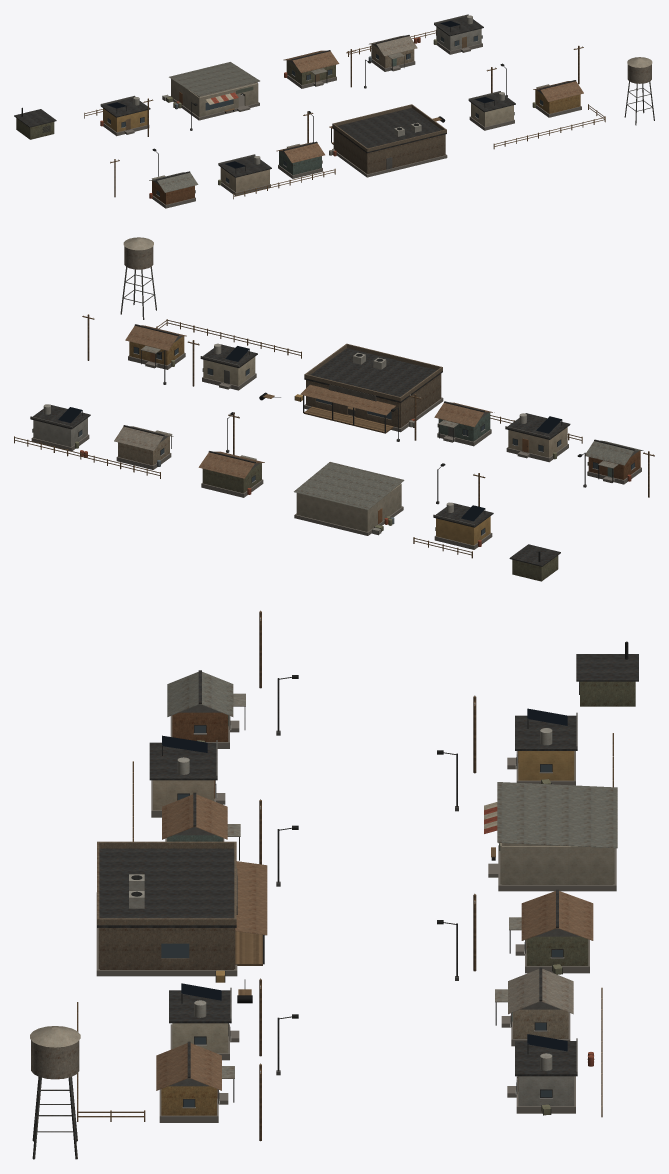
File: vesper-village.glb
3 renders of one model, top to bottom at view 1: azimuth 30°, elevation 25°; view 2: azimuth 150°, elevation 25°; view 3: azimuth 270°, elevation 25°, orthographic. The views are drawn at different scales.
Visible parts, largest first — view 1: v_ext_houses, v_ext_bar, v_ext_store, v_ext_village, v_ext_poles; view 2: v_ext_houses, v_ext_bar, v_ext_store, v_ext_village, v_ext_poles; view 3: v_ext_houses, v_ext_bar, v_ext_store, v_ext_village, v_ext_poles, v_ext_lamps.
Part boxes in pixels (left/top/right/bottom): v_ext_houses: left=100, top=14, right=583, bottom=208; v_ext_bar: left=329, top=104, right=447, bottom=177; v_ext_store: left=169, top=62, right=259, bottom=120; v_ext_village: left=14, top=30, right=654, bottom=199; v_ext_poles: left=110, top=45, right=583, bottom=197; v_ext_houses: left=30, top=324, right=643, bottom=549; v_ext_bar: left=300, top=343, right=443, bottom=433; v_ext_store: left=294, top=462, right=404, bottom=535; v_ext_village: left=14, top=237, right=582, bottom=581; v_ext_poles: left=82, top=314, right=654, bottom=506; v_ext_houses: left=149, top=670, right=593, bottom=1122; v_ext_bar: left=96, top=841, right=267, bottom=976; v_ext_store: left=484, top=782, right=617, bottom=891; v_ext_village: left=30, top=641, right=638, bottom=1159; v_ext_poles: left=259, top=610, right=476, bottom=1141; v_ext_lamps: left=276, top=675, right=458, bottom=1075.
Bounding box in the file's own units: 102 × 12.4 × 54.57.
Materials: 11 (6 with a texture image).
